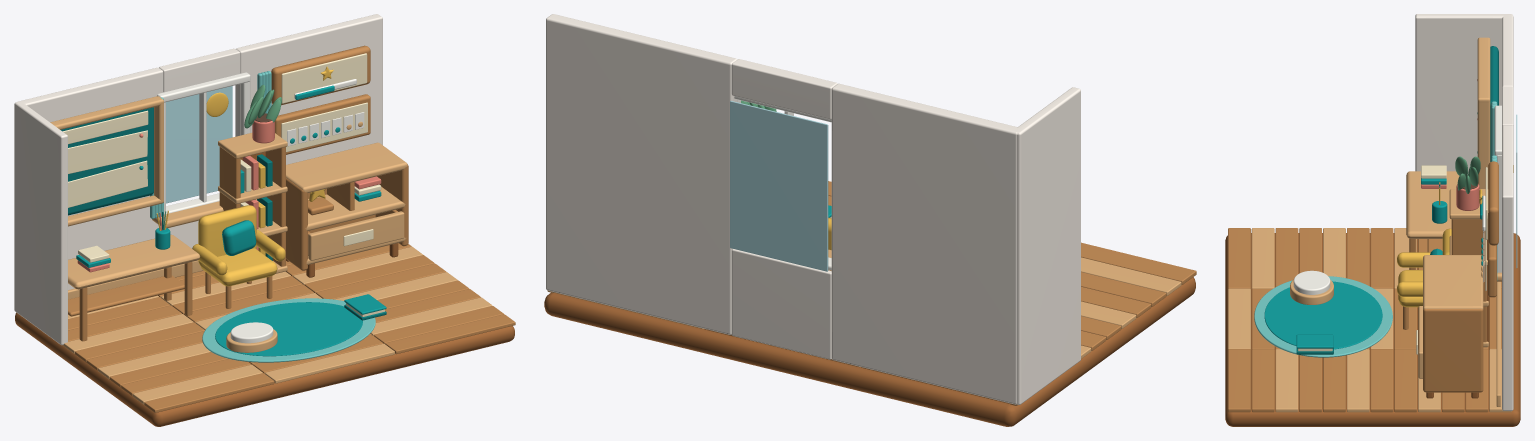
Rendered from room-spatial-study.glb.
3 renders of one model, left to right at view 1: azimuth 30°, elevation 25°; view 2: azimuth 150°, elevation 25°; view 3: azimuth 270°, elevation 25°, orthographic. The views are drawn at different scales.
Parts seen in each view (by area): view 1: Side return, Back wall right, Room foundation, Back wall left, Sky outside, Rug inner, Cabinet shelf.002, Desk top, Drawer front, Task board back, Rug outer, Goal paper (+61 smaller); view 2: Back wall left, Back wall right, Side return, Sky outside, Room foundation, Window below, Window above, Floor plank, Floor plank.003, Floor plank.006, Floor plank.009, Floor plank.012; view 3: Side return, Room foundation, Cabinet side.001, Rug inner, Back wall right, Cabinet shelf.002, Desk top, Rug outer, Floor plank.020, Floor plank.005, Library side.001, Floor plank.008 (+44 smaller).
Boxes of the visible parts, bbox=[...] form: Side return: bbox=[14, 101, 67, 345]; Back wall right: bbox=[235, 14, 382, 164]; Room foundation: bbox=[15, 312, 514, 426]; Back wall left: bbox=[17, 67, 163, 289]; Sky outside: bbox=[166, 86, 232, 203]; Rug inner: bbox=[215, 302, 362, 356]; Cabinet shelf.002: bbox=[286, 142, 407, 192]; Desk top: bbox=[68, 234, 200, 289]; Drawer front: bbox=[308, 211, 404, 260]; Task board back: bbox=[61, 107, 153, 215]; Rug outer: bbox=[202, 298, 375, 362]; Goal paper: bbox=[281, 53, 367, 103]; Back wall left: bbox=[831, 83, 1019, 404]; Back wall right: bbox=[546, 14, 737, 334]; Side return: bbox=[1016, 87, 1080, 404]; Sky outside: bbox=[730, 101, 828, 271]; Room foundation: bbox=[544, 277, 1195, 426]; Window below: bbox=[731, 249, 831, 359]; Window above: bbox=[731, 59, 837, 119]; Floor plank: bbox=[1081, 242, 1196, 284]; Floor plank.003: bbox=[1081, 257, 1181, 295]; Floor plank.006: bbox=[1081, 272, 1166, 306]; Floor plank.009: bbox=[1081, 286, 1151, 317]; Floor plank.012: bbox=[1081, 301, 1136, 328]; Side return: bbox=[1415, 14, 1512, 174]; Room foundation: bbox=[1225, 233, 1520, 426]; Cabinet side.001: bbox=[1423, 309, 1483, 392]; Rug inner: bbox=[1264, 281, 1382, 349]; Back wall right: bbox=[1502, 125, 1513, 410]; Cabinet shelf.002: bbox=[1423, 255, 1483, 309]; Desk top: bbox=[1406, 171, 1459, 238]; Rug outer: bbox=[1254, 276, 1392, 357]; Floor plank.020: bbox=[1370, 349, 1393, 412]; Floor plank.005: bbox=[1251, 349, 1274, 412]; Library side.001: bbox=[1451, 219, 1486, 342]; Floor plank.008: bbox=[1275, 349, 1298, 412].
Size of the model in its own units: 6.74 by 4.01 by 4.6.
